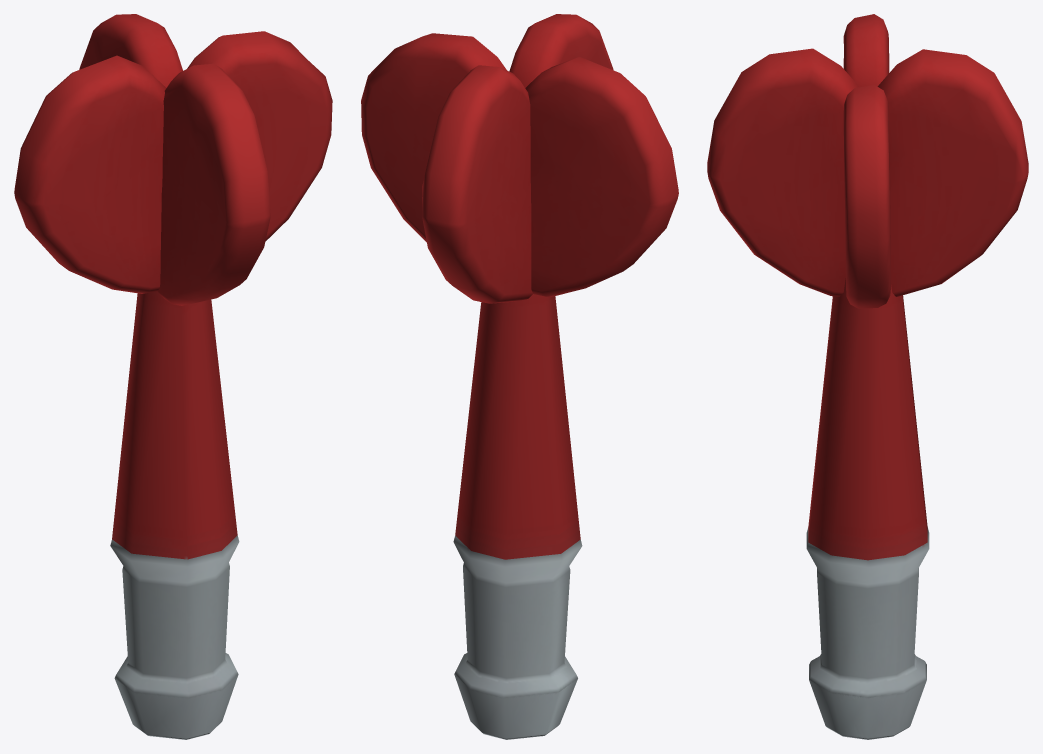
Rendered from dartarrow.fbx.
3 views of the same model, side by side, from view 1: azimuth 30°, elevation 25°; view 2: azimuth 150°, elevation 25°; view 3: azimuth 270°, elevation 25° (orthographic).
Visible parts, largest first — view 1: dartarrow; view 2: dartarrow; view 3: dartarrow.
Boxes of the visible parts, bbox=[...] form: dartarrow: bbox=[14, 14, 332, 739]; dartarrow: bbox=[361, 14, 678, 739]; dartarrow: bbox=[707, 14, 1028, 739].
Bounding box in the file's own units: 43.37 × 91.54 × 39.84.
